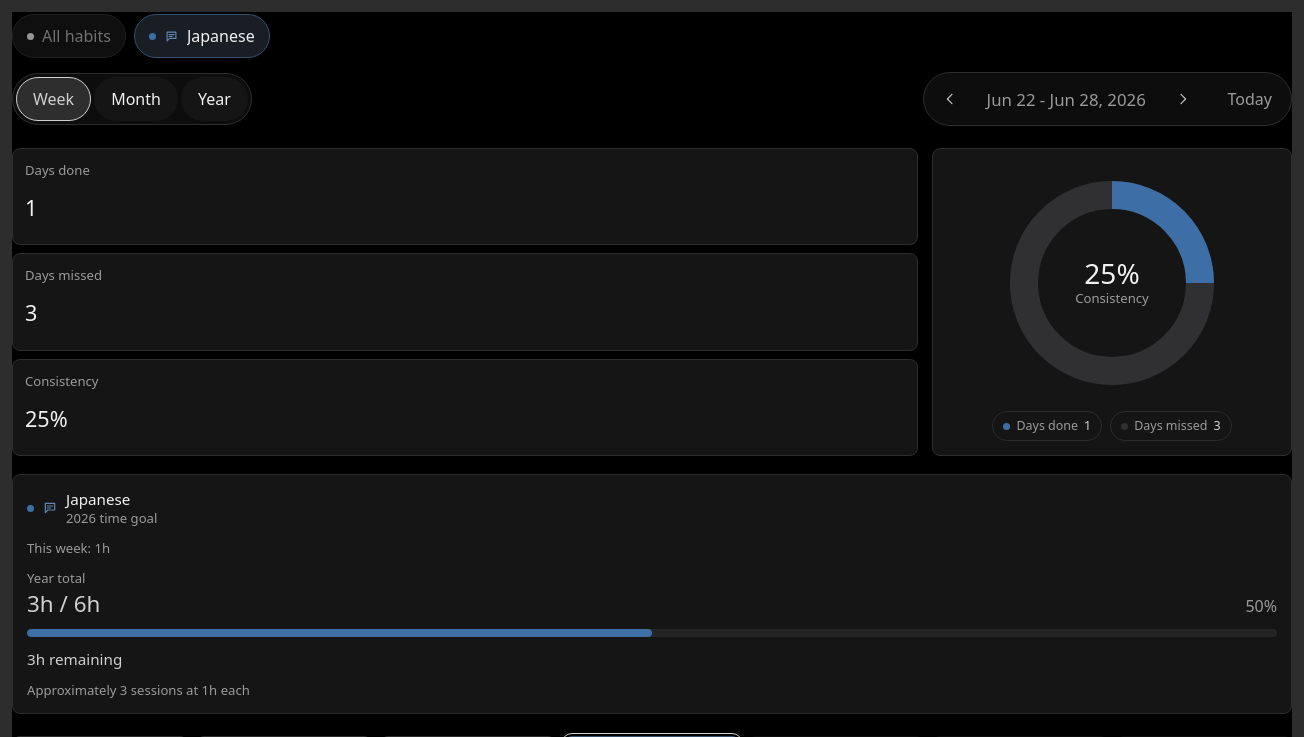
StatisticsView time goal card › shows year total without a fake period contribution in Year view
Click the button "Year" at (214, 99), box [181,77,248,121]
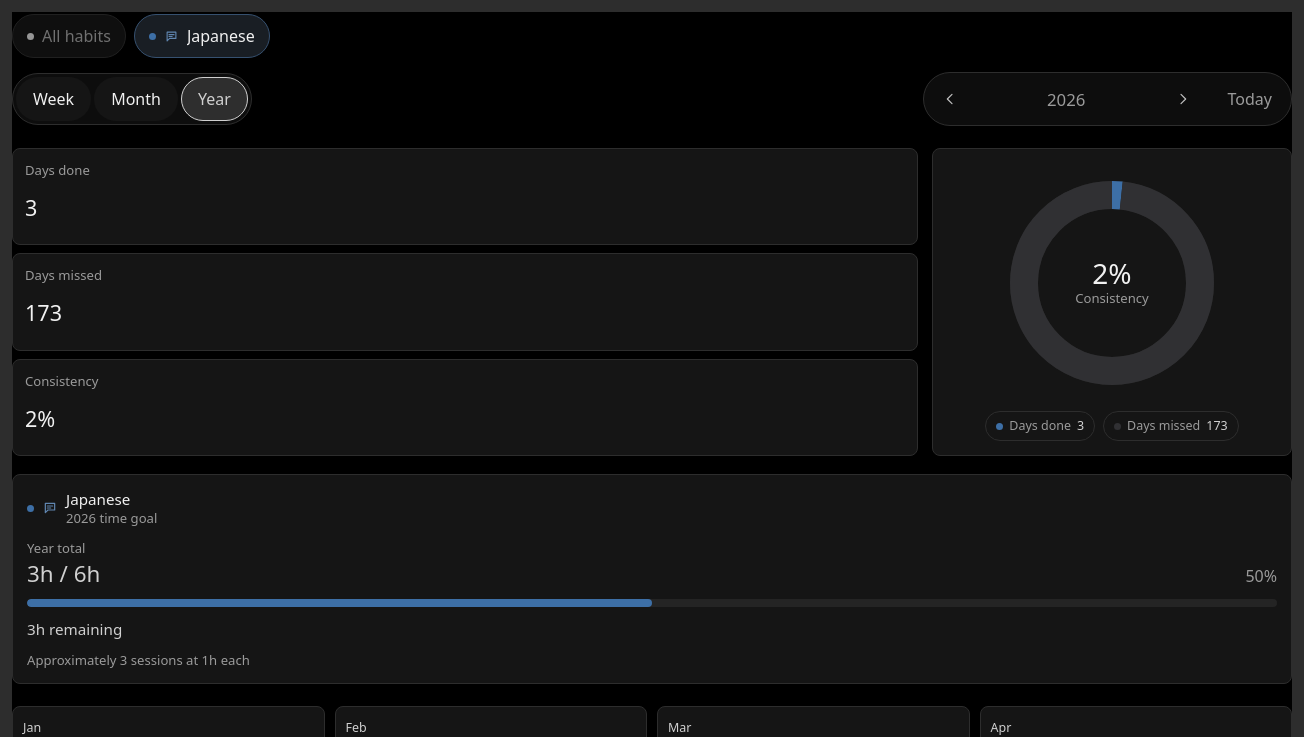
Check: the text "3h / 6h" is shown, box [27,563,100,585]
Check: the text "This week: 1h" is gone
